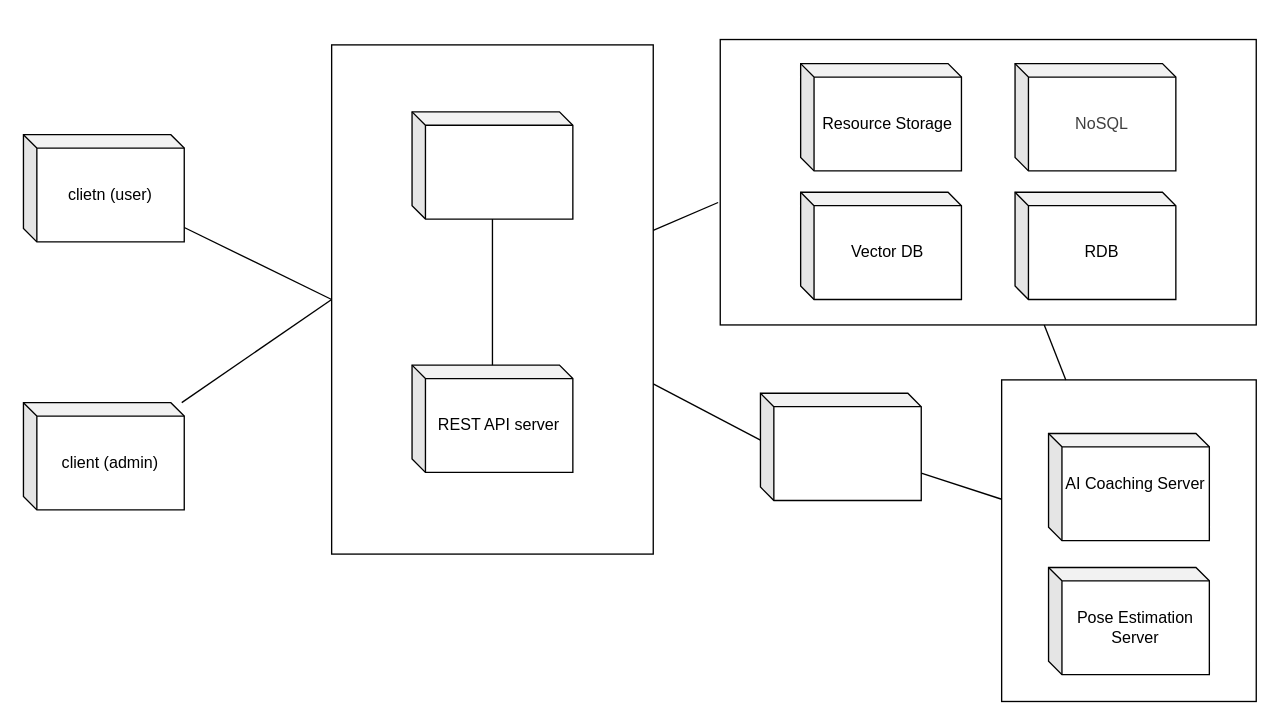
This 1280x725 diagram has some shape labels left out. The centre of each missing label's shape, as x and y in pixels:
Broker: the point at 840,446
WebSocket server: the point at 492,165
